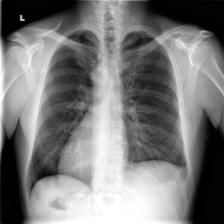normal: (23, 26, 192, 199)
